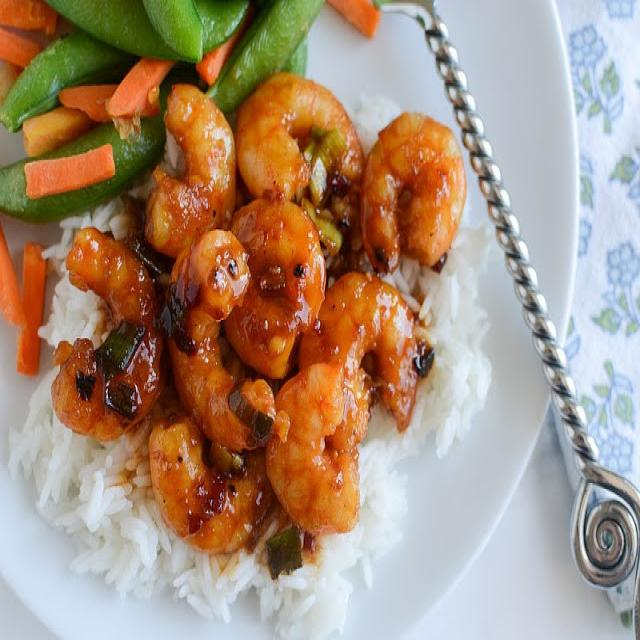tom: (52, 74, 465, 549)
